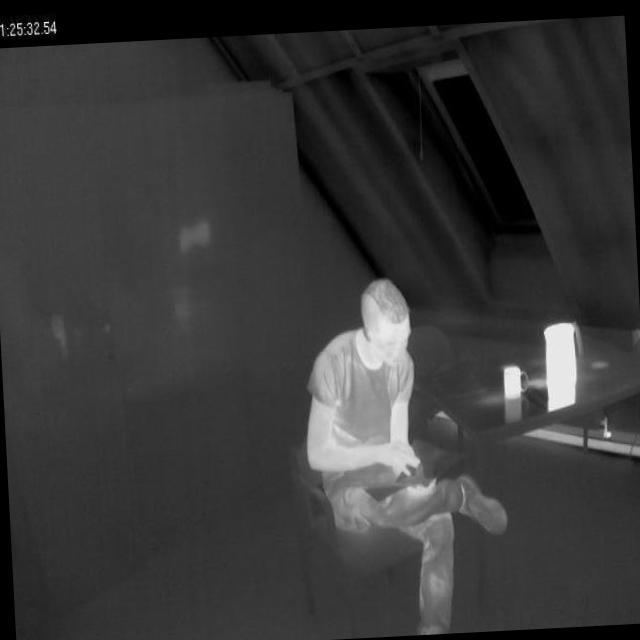person: (295, 270, 519, 640)
